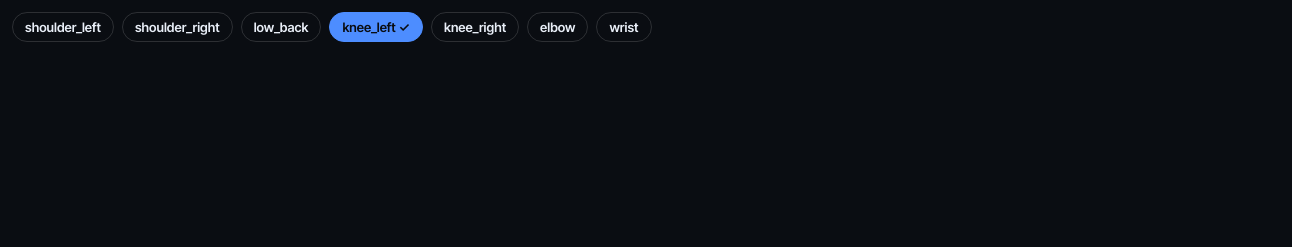
Scenario: <InjuryChipsEditor> › clicking an active chip expands a panel with severity + notes + onset
The width and height of the screenshot is (1292, 247).
What coordinates should you click on to do the following:
click the button "knee_left ✓"
I would click on:
 (376, 27)
Its box is 329,12 -> 423,42.
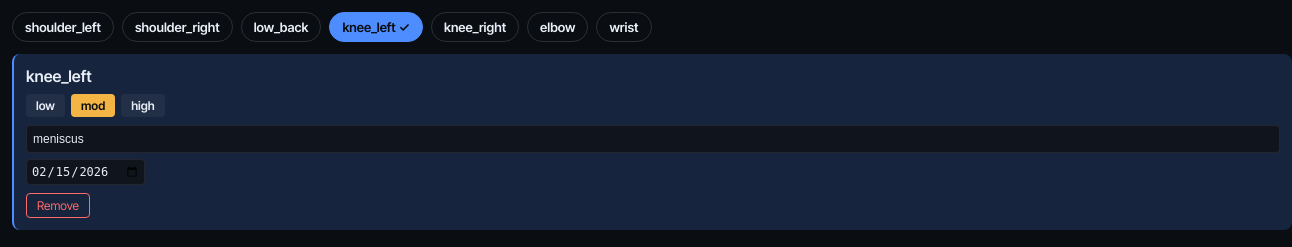
expect the field showing "meniscus" is shown: met, box 26,125 -> 1280,153
expect the button "mod" is shown: met, box 71,94 -> 115,117
